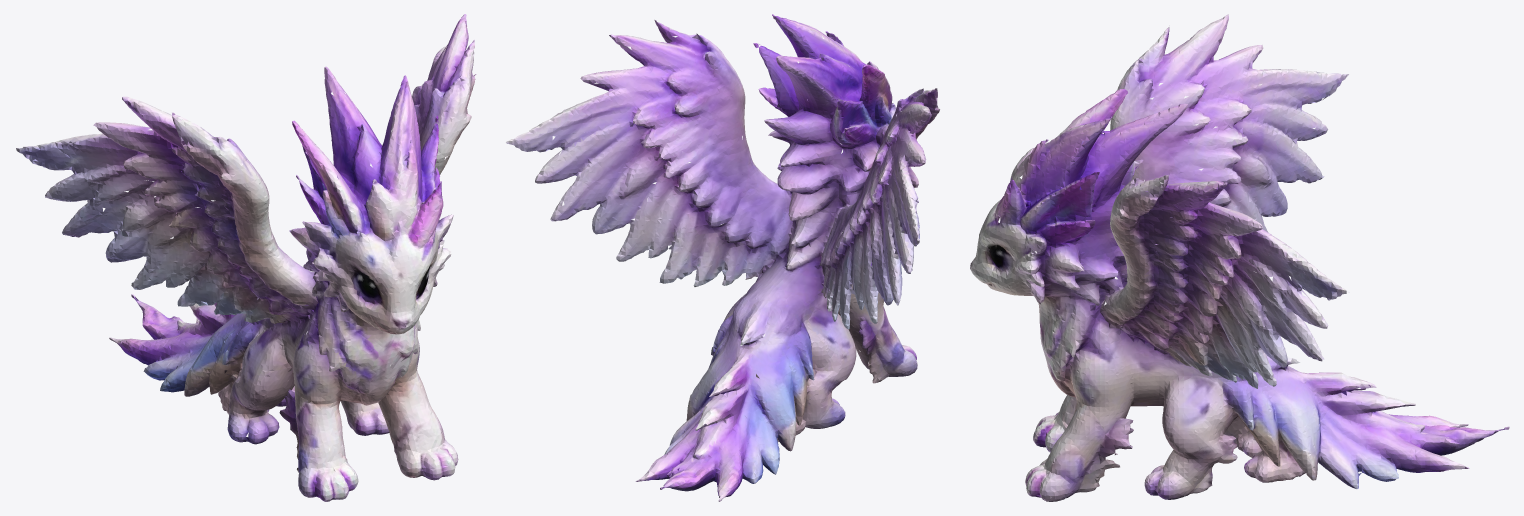
The model's file is zephyra_evo.glb.
3 views of the same model, side by side, from view 1: azimuth 30°, elevation 25°; view 2: azimuth 150°, elevation 25°; view 3: azimuth 270°, elevation 25° (orthographic). The views are drawn at different scales.
Visible parts, largest first — view 1: plush; view 2: plush; view 3: plush.
Part boxes in pixels (x1,y1,x2,y2): plush: (16,14,476,501); plush: (506,14,939,501); plush: (970,14,1509,501).
Size of the model in its own units: 0.933 by 0.7576 by 0.9763.
Materials: 1 (1 with a texture image).
